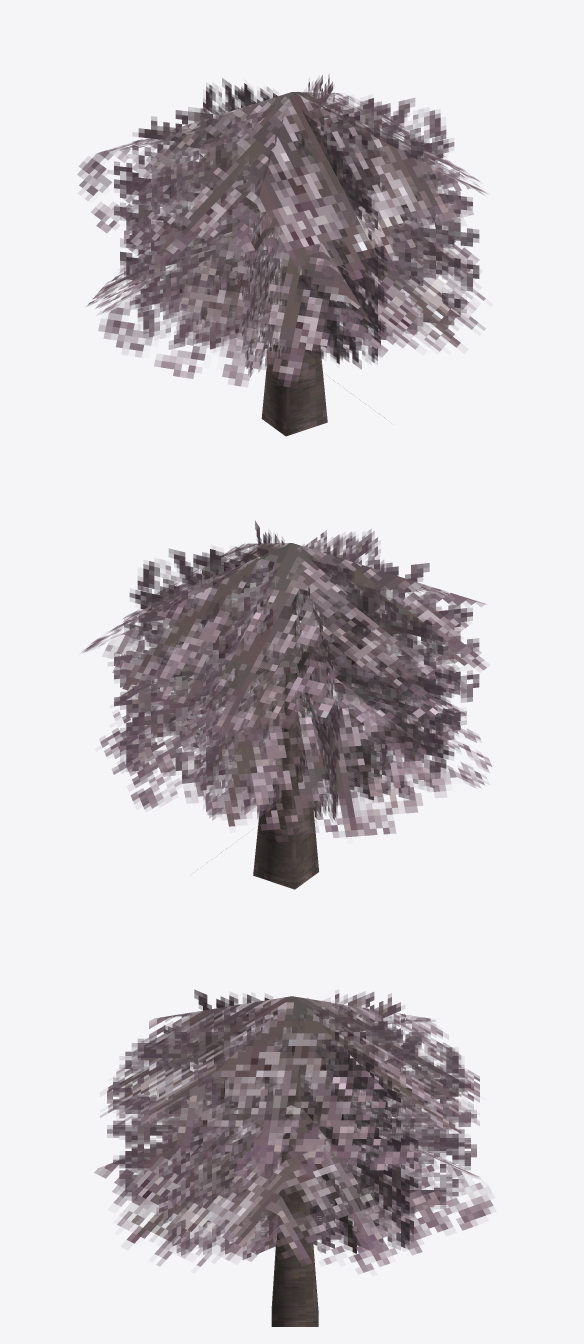
Rendered from Environment - Debris and Ruins - Rubble Mound - Debris - PMDsrtVlt.glb.
3 views of the same model, one above another, from view 1: azimuth 30°, elevation 25°; view 2: azimuth 150°, elevation 25°; view 3: azimuth 270°, elevation 25° (orthographic). The views are drawn at different scales.
Parts seen in each view (by area): view 1: PMDSRTVLT; view 2: PMDSRTVLT; view 3: PMDSRTVLT.
Boxes of the visible parts, x1,y1,x2,y2 form: PMDSRTVLT: (77,73,486,436); PMDSRTVLT: (81,521,491,889); PMDSRTVLT: (94,989,493,1326).
Size of the model in its own units: 10.42 by 6.67 by 10.42.
1 material, 1 textured.
